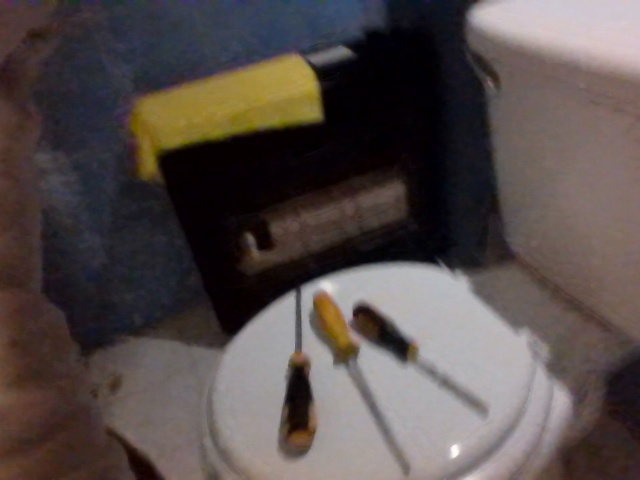destornillador: (310, 287, 412, 479), (349, 302, 491, 417), (277, 281, 319, 456)
